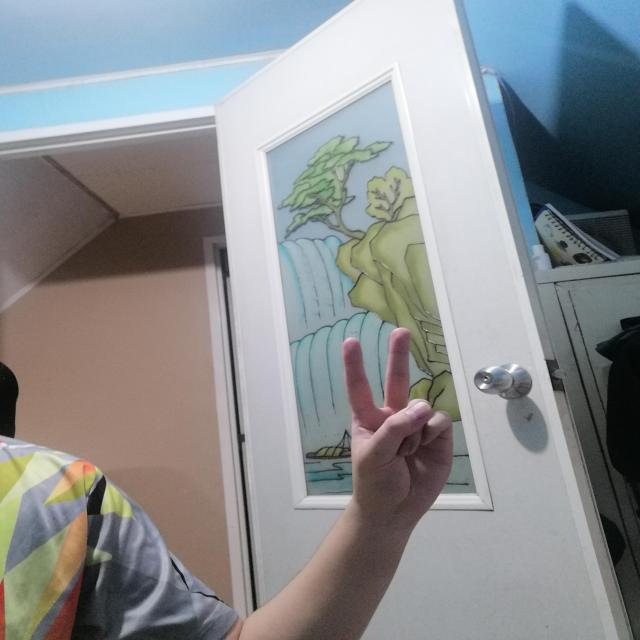V: (341, 328, 454, 505)
